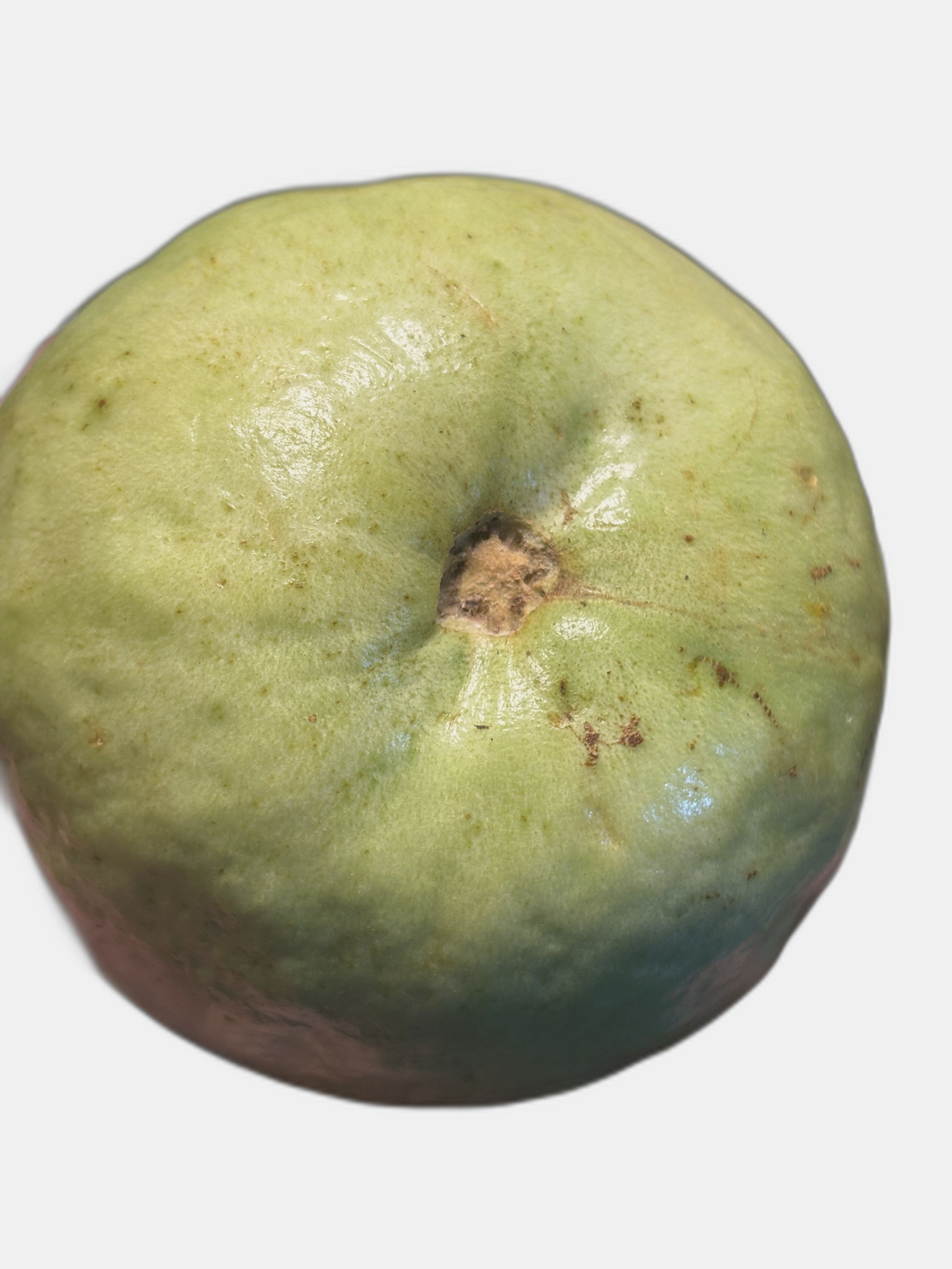guava: (43, 81, 889, 982)
